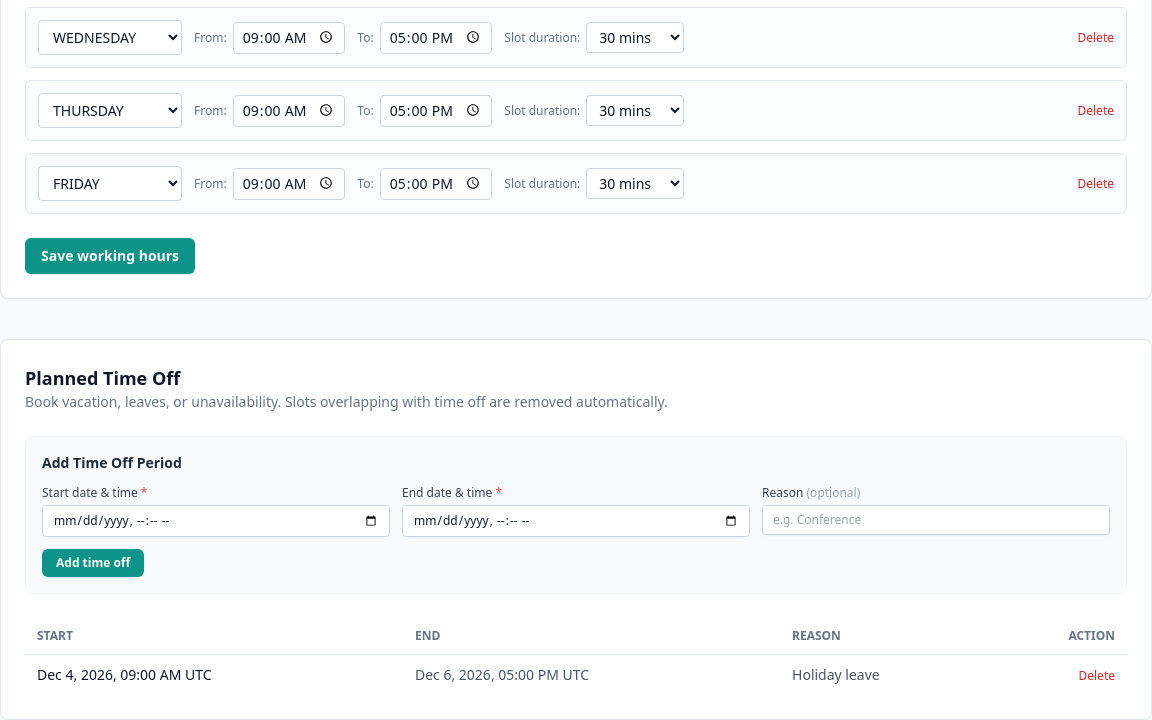
Test: DoctorSchedulePage › deletes a time off period
The width and height of the screenshot is (1152, 720).
(page scrolled)
Expected: the text "Holiday leave" is shown, [780, 654, 993, 695]
What coordinates should you click on to do the following:
click the button with aria-label "delete time off 1"
I would click on:
 (1097, 676)
Its box is [1078, 668, 1115, 684].
(page scrolled)
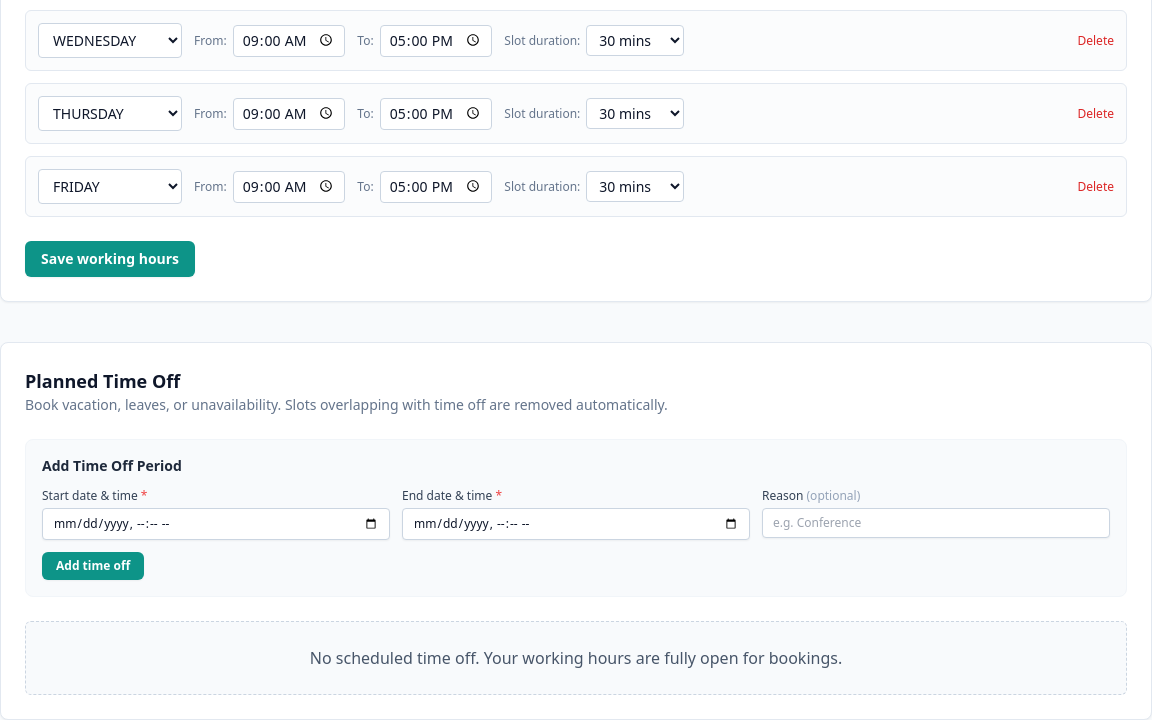
Expected: the text "Holiday leave" is gone
